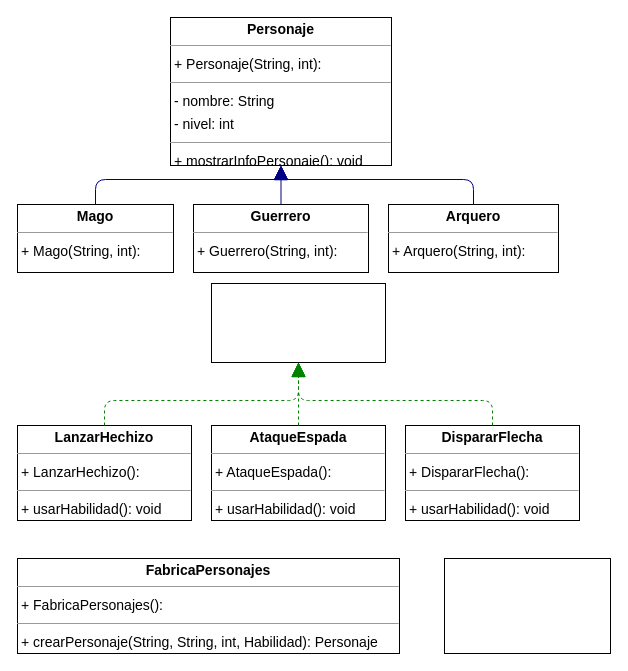
Image size: 628x671. Some labels were removed from this diagram. Each missing label, with the centre of its shape:
"<<interface>> Habilidad + usarHabilidad(): void" goes at [298,322].
"Main + Main(): + main(String[]): void" goes at [527,606].
